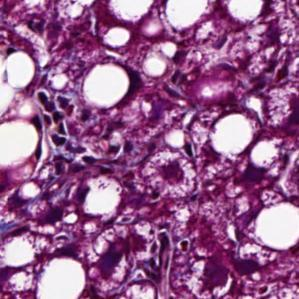inflammation: (34, 89, 82, 149), (152, 229, 193, 256)
